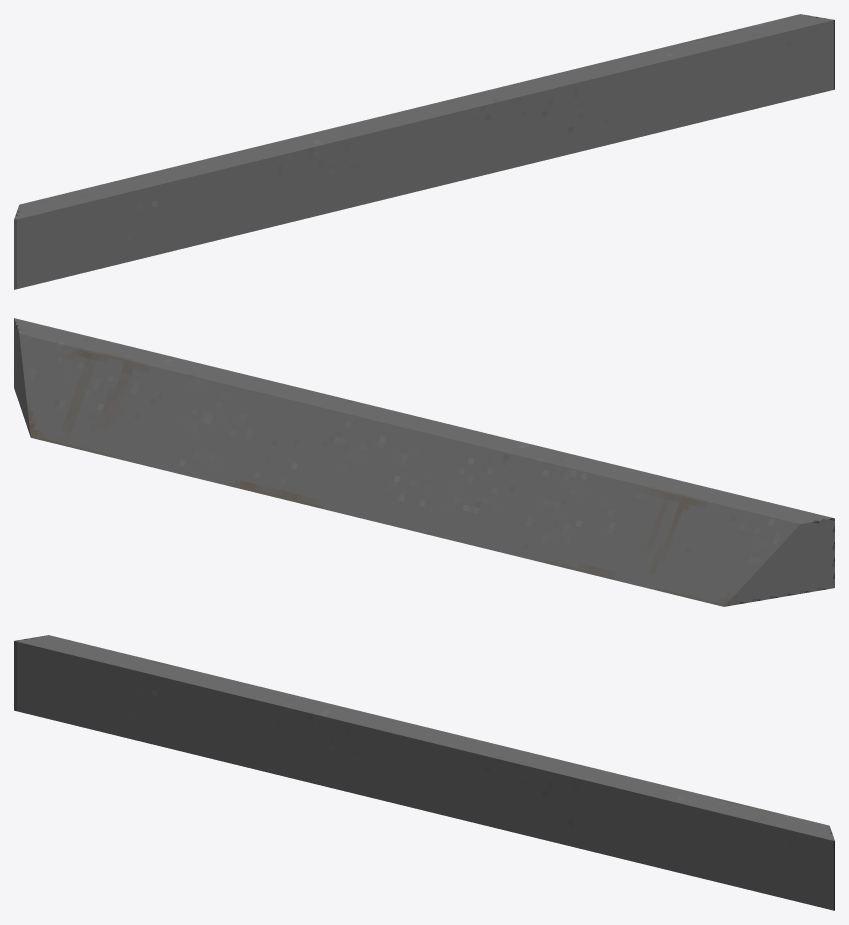
File: Wall_Vertical.fbx
3 renders of one model, top to bottom at view 1: azimuth 30°, elevation 25°; view 2: azimuth 150°, elevation 25°; view 3: azimuth 330°, elevation 25°, orthographic.
Parts seen in each view (by area): view 1: Wall_Blank_North; view 2: Wall_Blank_North; view 3: Wall_Blank_North.
Part boxes in pixels (x1=…): Wall_Blank_North: x1=14, y1=14, x2=834, y2=289; Wall_Blank_North: x1=14, y1=318, x2=834, y2=606; Wall_Blank_North: x1=14, y1=635, x2=834, y2=910.
Bounding box in the file's own units: 3699 × 300 × 368.
Materials: 1 (1 with a texture image).
